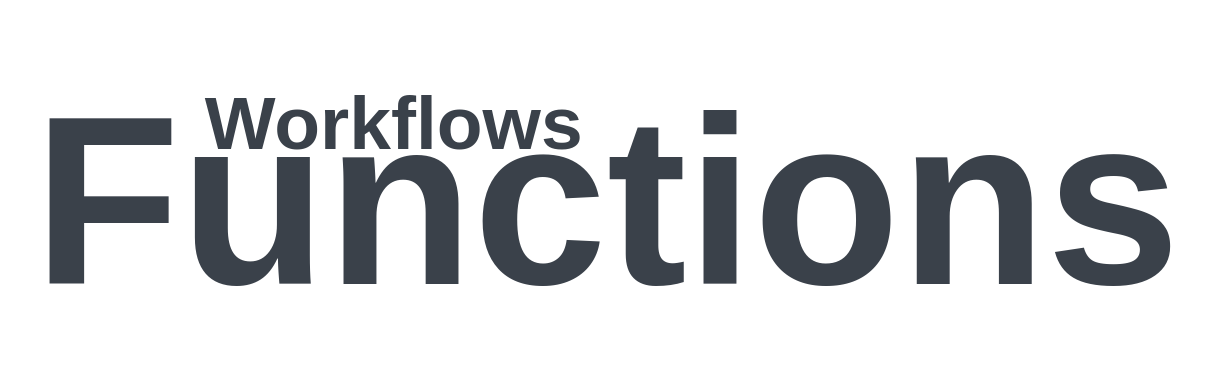
The diagram is 1215 pixels wide and 377 high, and some of its shapes have lost their labels. Each missing label, with the centre of its shape:
"Inbound Adapters" goes at [393,77].
"Outbound Adapters" goes at [393,305].
